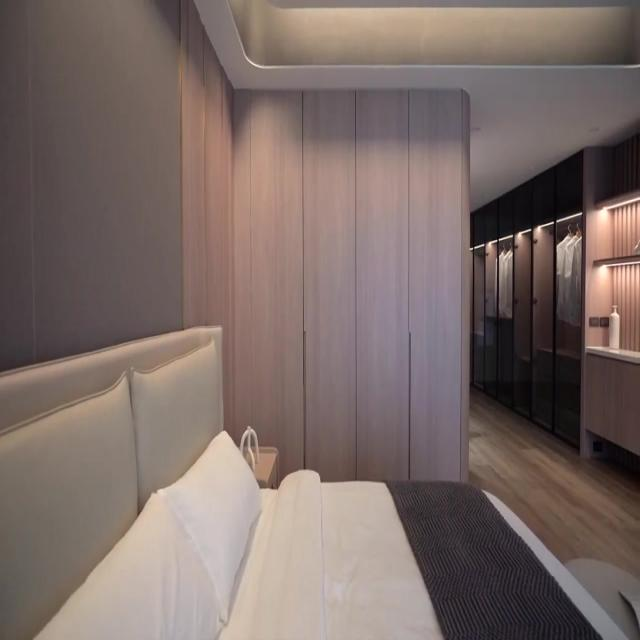obstacle: (1, 323, 634, 638)
